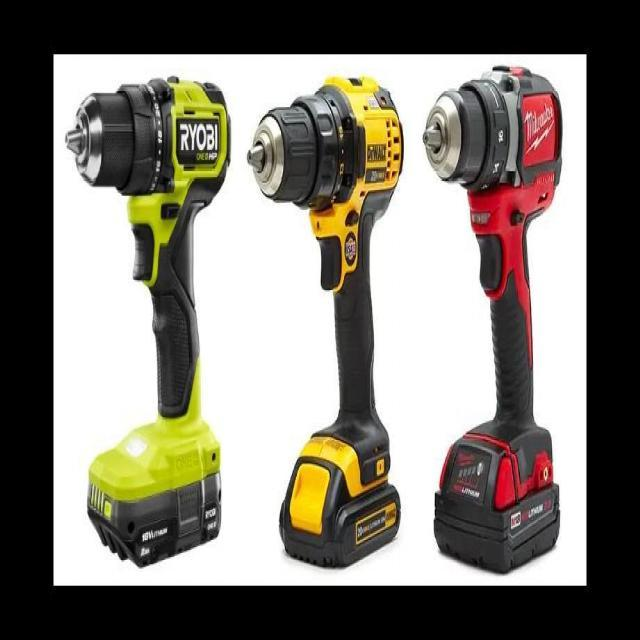drill: (64, 76, 232, 570), (246, 75, 404, 571), (422, 65, 563, 576)
